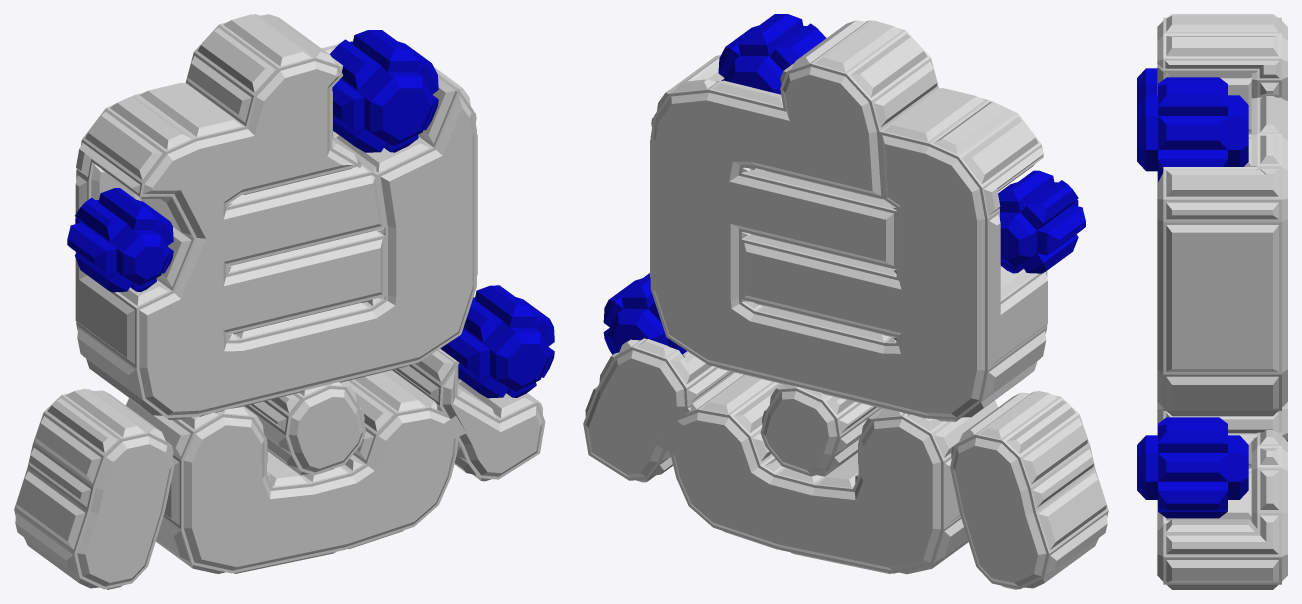
File: Ch_China_息_01.fbx
3 views of the same model, side by side, from view 1: azimuth 30°, elevation 25°; view 2: azimuth 150°, elevation 25°; view 3: azimuth 270°, elevation 25° (orthographic).
Visible parts, largest first — view 1: sphere1; view 2: sphere1; view 3: sphere1.
Part boxes in pixels (left/top/right/bottom): sphere1: left=14, top=14, right=554, bottom=589; sphere1: left=583, top=14, right=1108, bottom=589; sphere1: left=1137, top=14, right=1287, bottom=589.
Size of the model in its own units: 0.9287 by 0.9324 by 0.2541.
